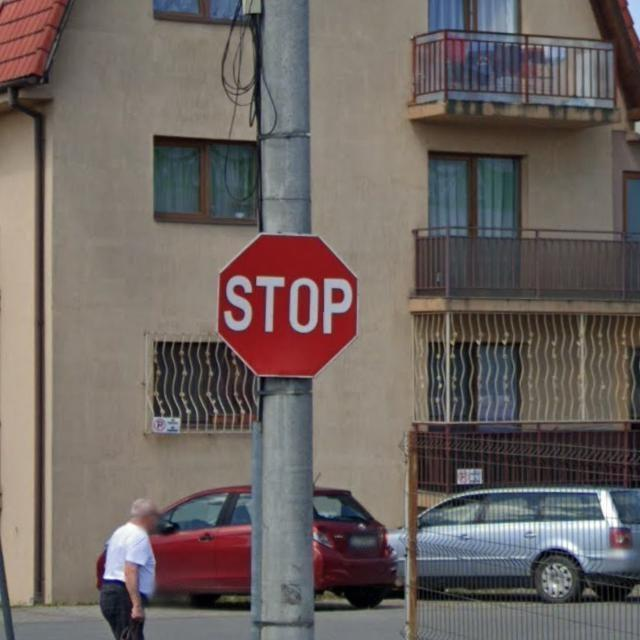prio_stop: (216, 232, 358, 378)
